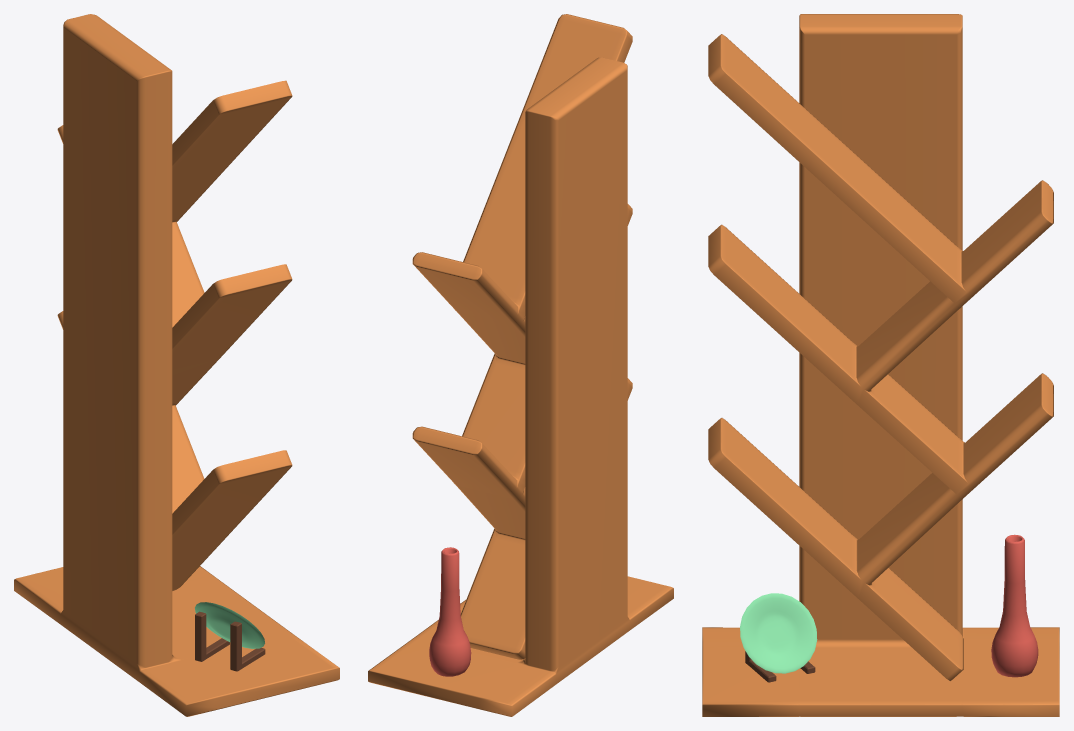
File: Bookshelf_01.fbx
3 renders of one model, left to right at view 1: azimuth 30°, elevation 25°; view 2: azimuth 150°, elevation 25°; view 3: azimuth 270°, elevation 25°, orthographic. The views are drawn at different scales.
Visible parts, largest first — view 1: Bookshelf_V01, Cube, Circle.001; view 2: Bookshelf_V01, Vase.001; view 3: Bookshelf_V01, Circle.001, Vase.001.
Part boxes in pixels (left/top/right/bottom): Bookshelf_V01: left=14, top=14, right=339, bottom=716; Cube: left=195, top=611, right=265, bottom=671; Circle.001: left=195, top=602, right=264, bottom=648; Bookshelf_V01: left=368, top=14, right=673, bottom=716; Vase.001: left=429, top=547, right=471, bottom=676; Bookshelf_V01: left=702, top=14, right=1059, bottom=716; Circle.001: left=740, top=593, right=817, bottom=673; Vase.001: left=991, top=534, right=1038, bottom=677.
Size of the model in its own units: 146 by 75.44 by 283.
